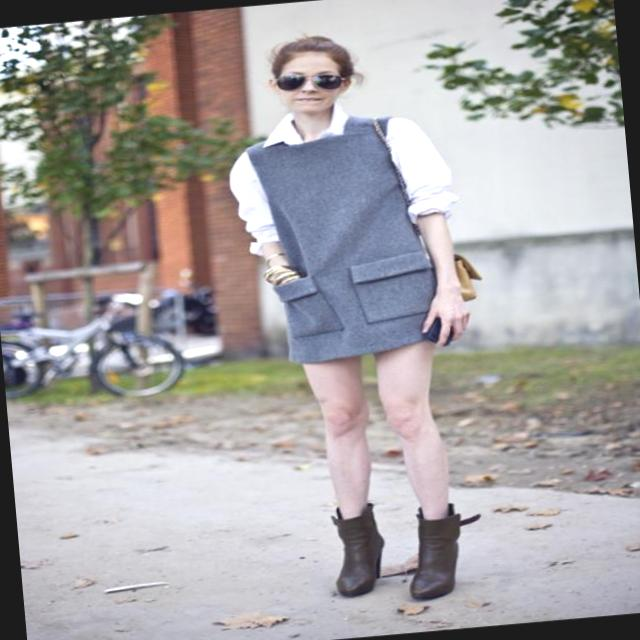dress: (222, 105, 470, 370)
